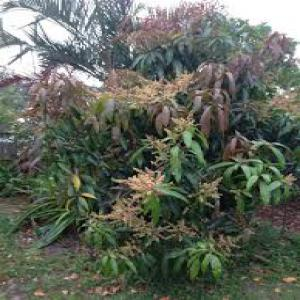Tree: (31, 6, 294, 277)
